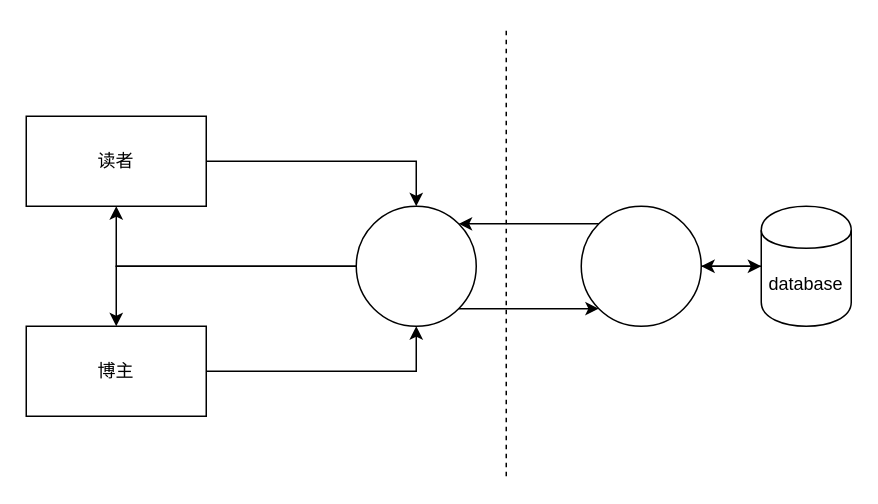
Some shapes in this 878 by 504 pixel diagram are drawn without their labels. The shapes that lost their labels are listed below. From the top down, each one's centre as x and y in pixels, then its label:
At (415,265): "Font-end".
At (640,265): "Back-end".
